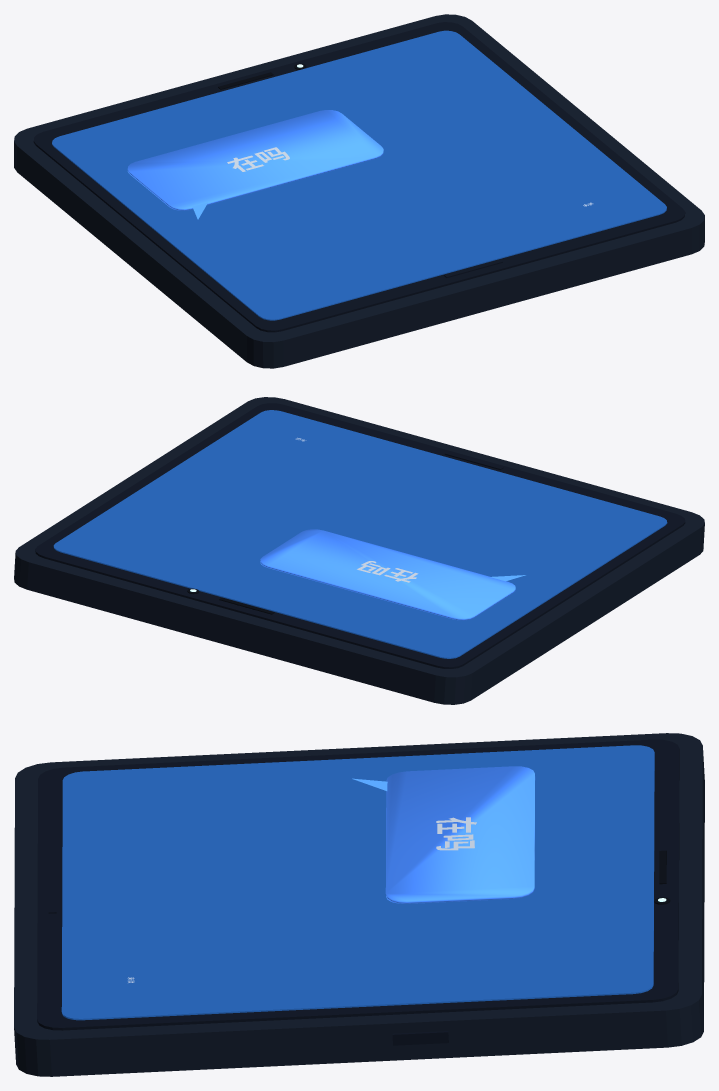
Rendered from SunkenPhone.fbx.
3 views of the same model, one above another, from view 1: azimuth 30°, elevation 25°; view 2: azimuth 150°, elevation 25°; view 3: azimuth 270°, elevation 25° (orthographic). The views are drawn at different scales.
Parts seen in each view (by area): view 1: KIT_SunkenPhone_Mesh; view 2: KIT_SunkenPhone_Mesh; view 3: KIT_SunkenPhone_Mesh.
Part boxes in pixels (box(x1,y1,x2,y2)): KIT_SunkenPhone_Mesh: box(14, 14, 704, 368); KIT_SunkenPhone_Mesh: box(14, 397, 704, 704); KIT_SunkenPhone_Mesh: box(14, 733, 704, 1076).
Bounding box in the file's own units: 11.41 × 1.58 × 11.14.
